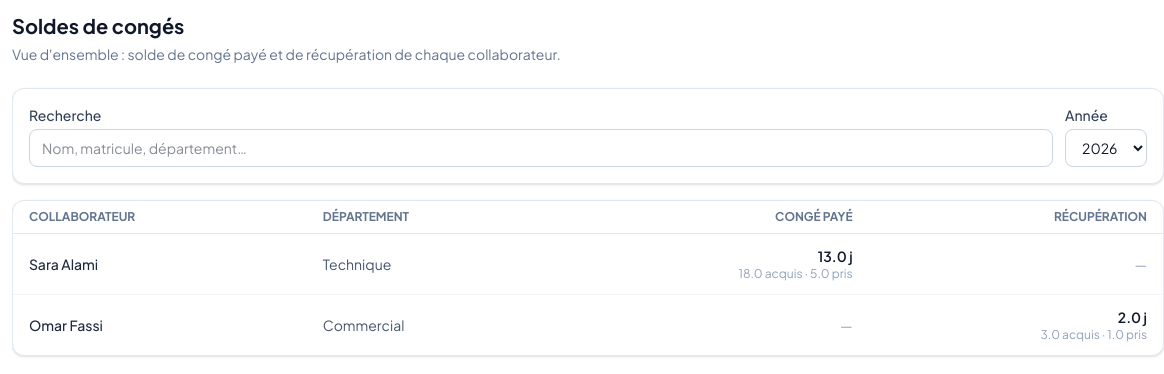
Test: LeaveBalancesPage › filters the list with the search box
expect the button "Sara Alami" is shown: met, box [29,254,98,274]
Type "Omar" into the field with placeholder "Nom, matricule, département…" at (541, 148), box [29,129,1053,167]
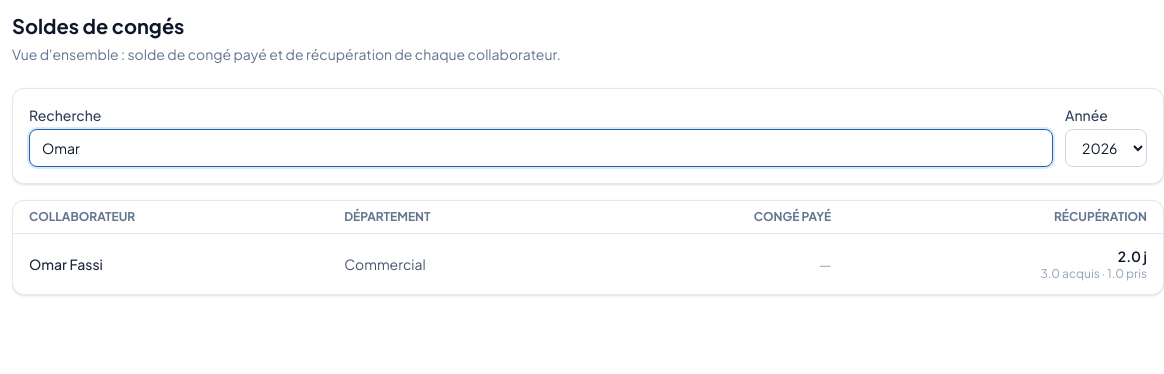
expect the button "Omar Fassi" is shown: met, box [29,254,103,274]
expect the button "Sara Alami" is gone: met
